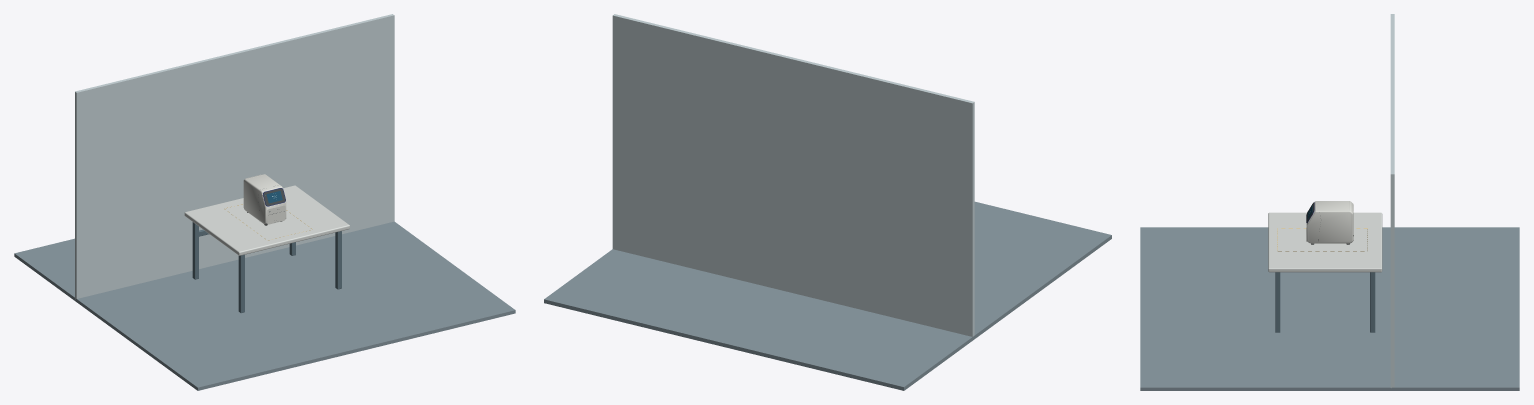
The model's file is qs5-exterior.glb.
3 renders of one model, left to right at view 1: azimuth 30°, elevation 25°; view 2: azimuth 150°, elevation 25°; view 3: azimuth 270°, elevation 25°, orthographic. The views are drawn at different scales.
Visible parts, largest first — view 1: env.wall, env.floor, env.bench.top, qs5.body; view 2: env.wall, env.floor; view 3: env.floor, env.bench.top, qs5.body, env.wall, env.bench.leg-1-0, env.bench.leg-1-1.
Boxes of the visible parts, x1=… form: env.wall: x1=75, y1=14, x2=394, y2=299; env.floor: x1=14, y1=221, x2=515, y2=390; env.bench.top: x1=184, y1=185, x2=349, y2=255; qs5.body: x1=243, y1=174, x2=286, y2=224; env.wall: x1=612, y1=14, x2=974, y2=336; env.floor: x1=544, y1=201, x2=1111, y2=390; env.floor: x1=1140, y1=227, x2=1519, y2=390; env.bench.top: x1=1268, y1=212, x2=1382, y2=272; qs5.body: x1=1306, y1=201, x2=1353, y2=243; env.wall: x1=1390, y1=14, x2=1394, y2=387; env.bench.leg-1-0: x1=1275, y1=272, x2=1280, y2=332; env.bench.leg-1-1: x1=1370, y1=272, x2=1375, y2=332.
Bounding box in the file's own units: 4 × 2.52 × 4.
